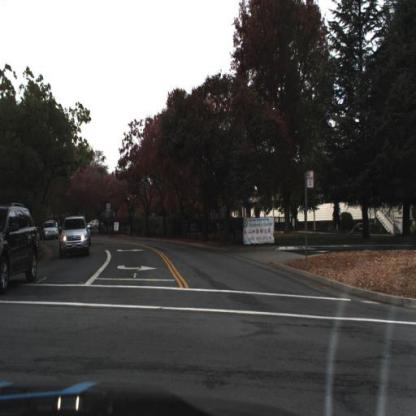car: (2, 203, 41, 300), (58, 218, 91, 260), (40, 214, 61, 243), (89, 213, 107, 231)
